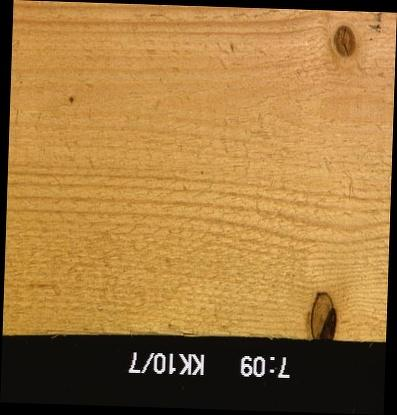small_knot: (57, 92, 105, 140)
sound_knot: (331, 24, 356, 59)
